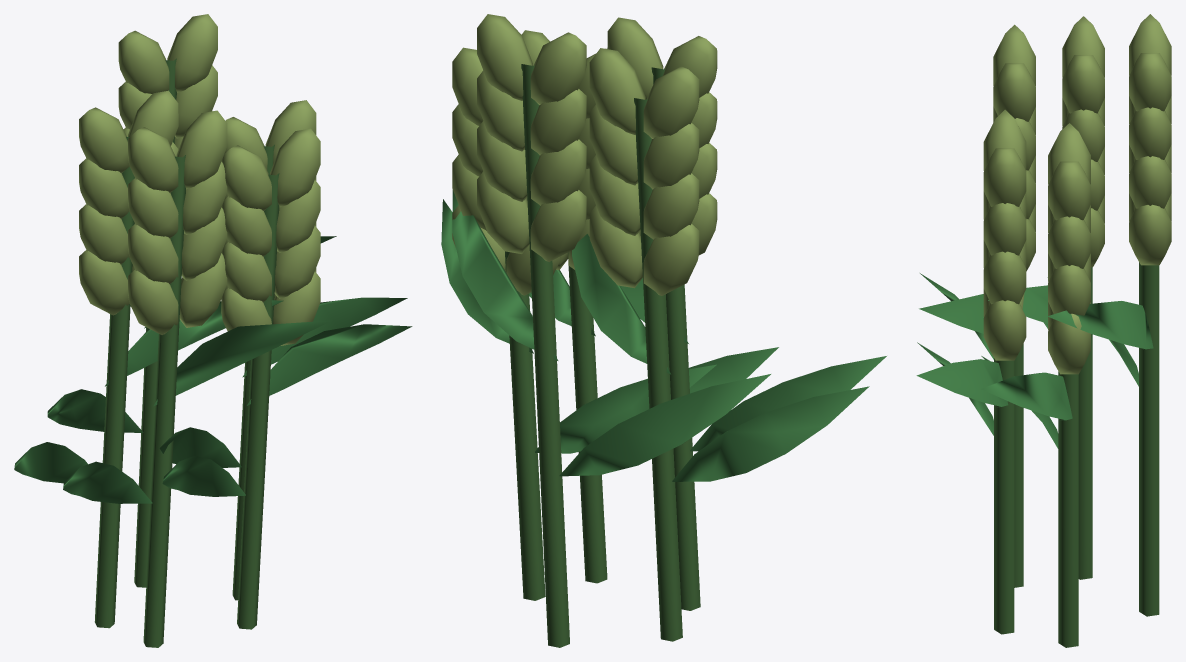
The model's file is trigo_2_lod.glb.
3 renders of one model, left to right at view 1: azimuth 30°, elevation 25°; view 2: azimuth 150°, elevation 25°; view 3: azimuth 270°, elevation 25°, orthographic. The views are drawn at different scales.
Parts seen in each view (by area): view 1: trigo_2_espigas_0; view 2: trigo_2_espigas_0; view 3: trigo_2_espigas_0.
Part boxes in pixels (x1=…): trigo_2_espigas_0: x1=14, y1=14, x2=412, y2=647; trigo_2_espigas_0: x1=441, y1=14, x2=886, y2=647; trigo_2_espigas_0: x1=916, y1=14, x2=1171, y2=647.
Bounding box in the file's own units: 0.3837 × 0.5216 × 0.2046.
